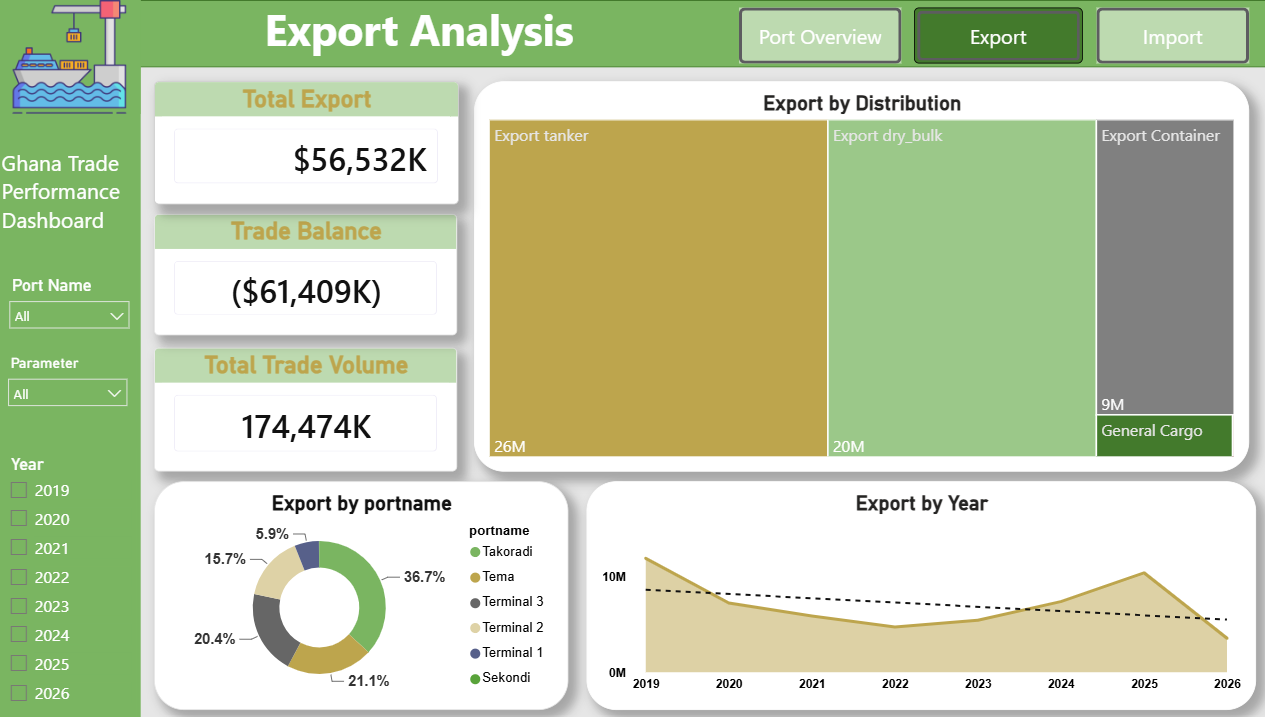

Layout of this report page (visuals, bound fields, positions):
{"tool":"powerbi","page":{"name":"Export ","canvas":[1280,720],"ordinal":1},"visuals":[{"type":"shape","box":[0,0,1280,720],"z":0},{"type":"shape","box":[147.5,0,1133,67.5],"z":1000},{"type":"shape","box":[10,0,141.2,720],"z":2000},{"type":"cardVisual","title":"Total Trade Volume","fields":{"Data":["All The Measures.Total Trade Volumn"]},"box":[165.4,347.1,303.5,124.4],"z":3000},{"type":"cardVisual","title":"Trade Balance","fields":{"Data":["All The Measures.Trade Balance"]},"box":[165.4,214,303.5,121.9],"z":4000},{"type":"treemap","title":"Export by Distribution","fields":{"Values":["ghana_export_data.Container","ghana_export_data.General Cargo","ghana_export_data.Dry_bulk","ghana_export_data.Roro","ghana_export_data.Tanker"]},"box":[485.1,80.9,775,390.6],"z":5000},{"type":"areaChart","title":"Export by Year","fields":{"Category":["ghana_export_data.date.Variation.Date Hierarchy.Year","ghana_export_data.date.Variation.Date Hierarchy.Quarter","ghana_export_data.date.Variation.Date Hierarchy.Month","ghana_export_data.date.Variation.Date Hierarchy.Day"],"Y":["Sum(ghana_export_data.export)"]},"box":[597.1,481.4,669.3,228.9],"z":6000},{"type":"slicer","fields":{"Values":["port_data.portname"]},"box":[10,270.2,140.6,75.9],"z":7000},{"type":"slicer","fields":{"Values":["ghana_port_activity.year"]},"box":[8.8,448.8,138.8,271.2],"z":8000},{"type":"slicer","fields":{"Values":["Parameter 3.Parameter"]},"box":[8.8,350.2,139.3,72.1],"z":9000},{"type":"textbox","box":[151.2,0,562.5,67.5],"z":10000},{"type":"cardVisual","title":"Total Export","fields":{"Data":["All The Measures.Total Export"]},"box":[165.4,80.9,304.8,123.2],"z":11000},{"type":"actionButton","box":[750,7.5,162.5,56.2],"z":12000},{"type":"actionButton","box":[925,7.5,168.8,56.2],"z":13000},{"type":"actionButton","box":[1107.5,7.5,152.5,56.2],"z":14000},{"type":"donutChart","title":"Export by portname","fields":{"Category":["port_data.portname"],"Y":["Sum(ghana_export_data.export)"]},"box":[165.4,481.4,414.2,228.9],"z":15000},{"type":"textbox","box":[7.5,142.5,140,108.8],"z":16000},{"type":"image","box":[10,0,141.2,113.8],"z":17000}]}

Visuals, with their boxes in screenshot pixels (x1, y1, x2, y2), scaled from the page's 1280x720 canvas onto the 1265x717 screenshot:
shape: select_region(0, 0, 1264, 716)
shape: select_region(146, 0, 1264, 67)
shape: select_region(10, 0, 149, 716)
"Total Trade Volume" cardVisual: select_region(163, 346, 463, 470)
"Trade Balance" cardVisual: select_region(163, 213, 463, 335)
"Export by Distribution" treemap: select_region(479, 81, 1245, 470)
"Export by Year" areaChart: select_region(590, 479, 1252, 707)
slicer - port_data.portname: select_region(10, 269, 149, 345)
slicer - ghana_port_activity.year: select_region(9, 447, 146, 716)
slicer - Parameter 3.Parameter: select_region(9, 349, 146, 421)
textbox: select_region(149, 0, 705, 67)
"Total Export" cardVisual: select_region(163, 81, 465, 203)
actionButton: select_region(741, 7, 902, 63)
actionButton: select_region(914, 7, 1081, 63)
actionButton: select_region(1095, 7, 1245, 63)
"Export by portname" donutChart: select_region(163, 479, 573, 707)
textbox: select_region(7, 142, 146, 250)
image: select_region(10, 0, 149, 113)
